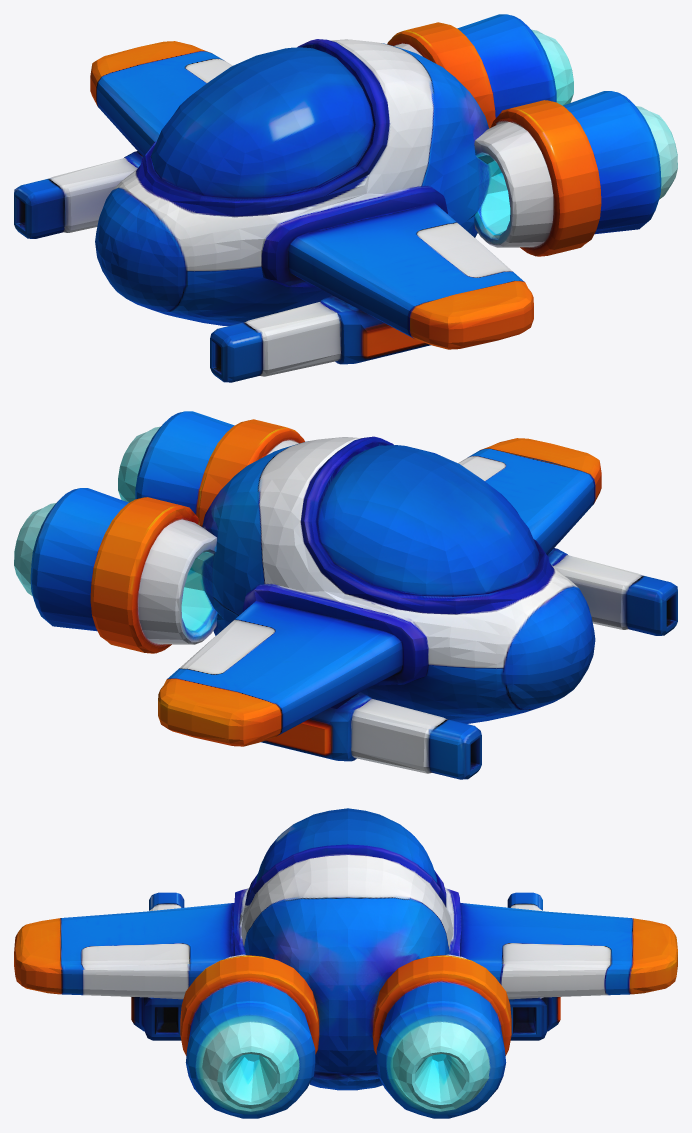
Rendered from Meshy_AI_Azure_Voyager_0703084733_texture.glb.
The picture shows the model from 3 angles, top to bottom: view 1: azimuth 30°, elevation 25°; view 2: azimuth 150°, elevation 25°; view 3: azimuth 270°, elevation 25°; orthographic projection. The views are drawn at different scales.
Bounding box in the file's own units: 1.52 × 0.7319 × 1.91.
1 material, 1 textured.
